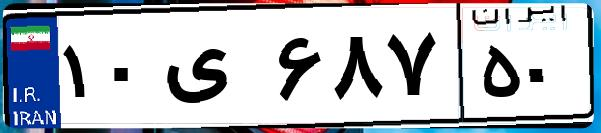0: (525, 38, 570, 115), (110, 28, 158, 98)
1: (57, 26, 110, 100)
5: (475, 38, 525, 113)
6: (270, 28, 330, 110)
7: (385, 28, 445, 110)
8: (330, 28, 385, 110)
ی: (158, 20, 270, 120)
